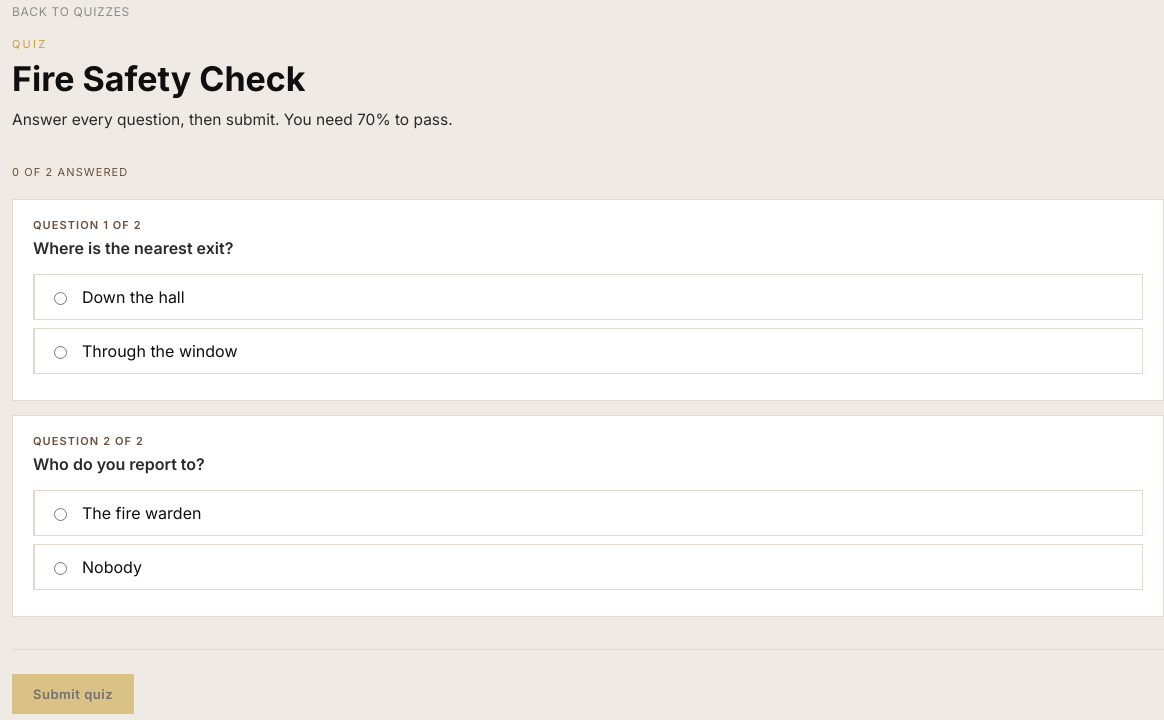
Test: taking a quiz › counts how many are answered
Expected: the text "0 of 2 answered" is shown, [12,165,128,179]
Step 1. Click the radio button labelled "Down the hall" → (60, 298), box [54,292,67,305]
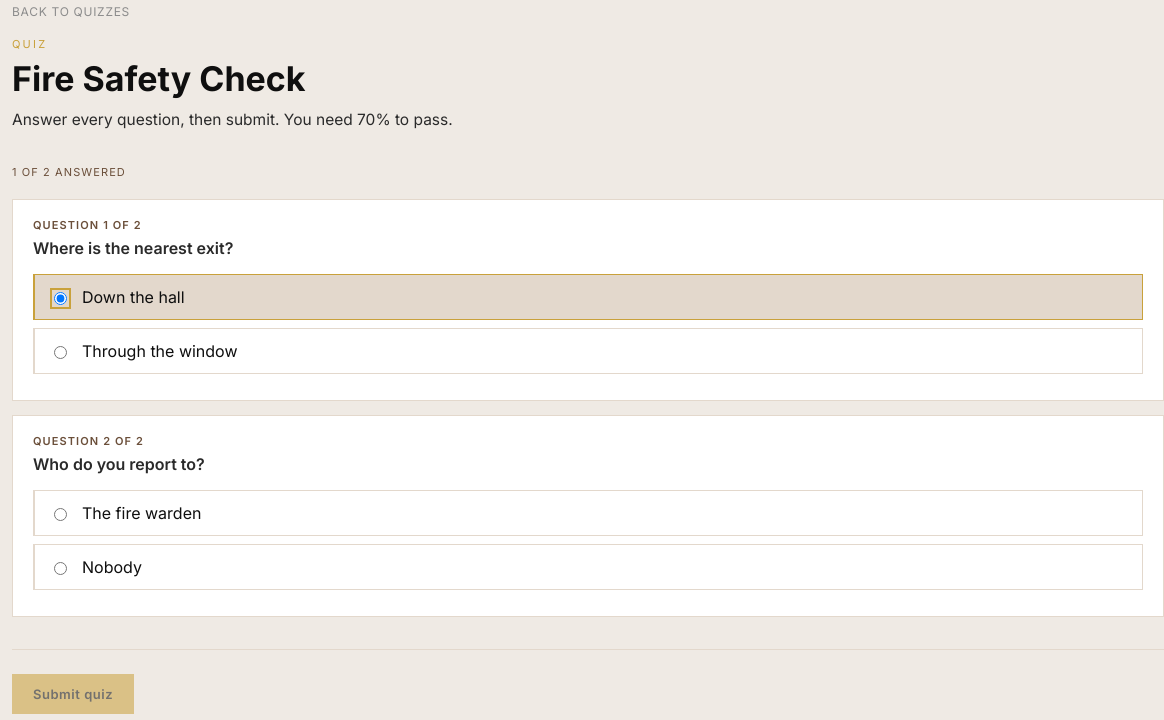
Expected: the text "1 of 2 answered" is shown, [12,165,126,179]
